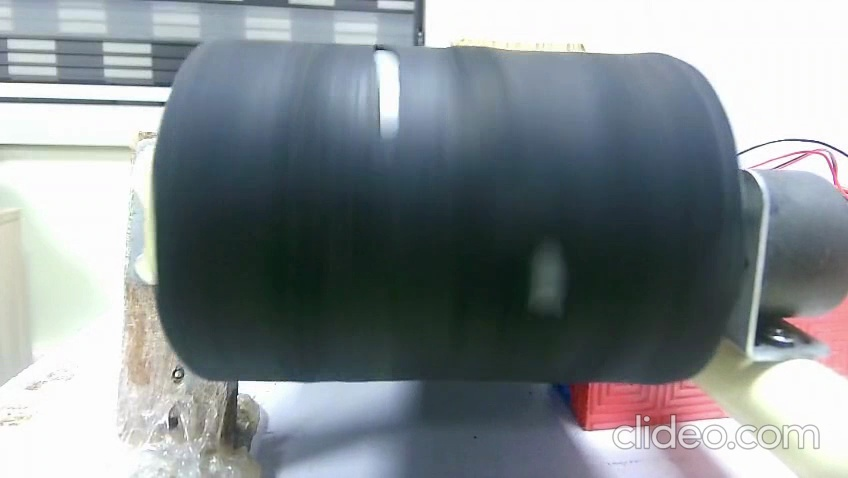hole: (517, 233, 578, 315)
tear: (362, 42, 410, 142)
